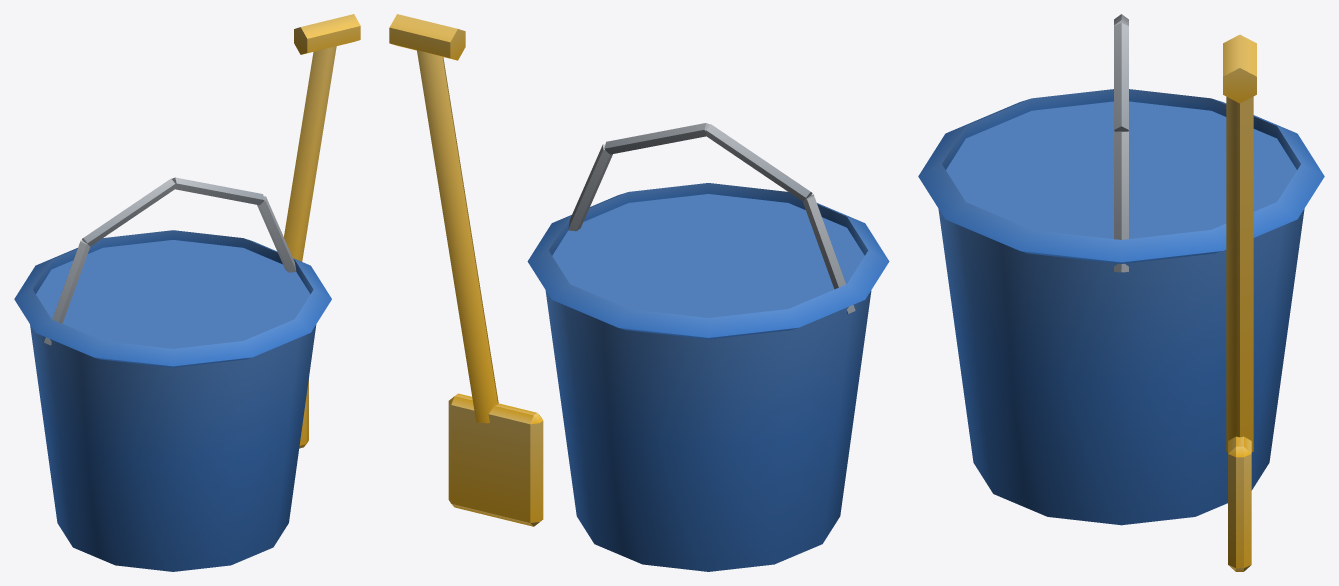
Rendered from ck_sand_pail.fbx.
3 renders of one model, left to right at view 1: azimuth 30°, elevation 25°; view 2: azimuth 150°, elevation 25°; view 3: azimuth 270°, elevation 25°, orthographic. The views are drawn at different scales.
Visible parts, largest first — view 1: ck_sand_pail; view 2: ck_sand_pail; view 3: ck_sand_pail.
Part boxes in pixels (box(x1,y1,x2,y2)): ck_sand_pail: box(14, 14, 360, 571); ck_sand_pail: box(389, 14, 889, 571); ck_sand_pail: box(918, 14, 1324, 571).
Size of the model in its own units: 91 by 100 by 68.67.
